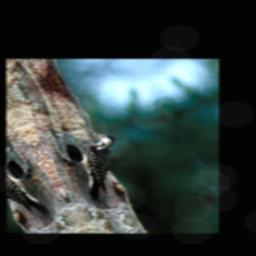Woodpecker: (59, 127, 147, 206)
